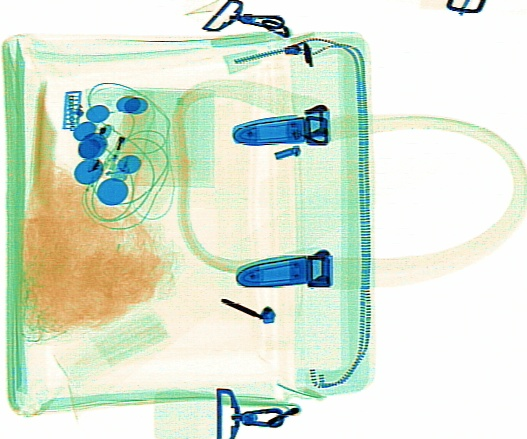lighter: (100, 93, 151, 184)
